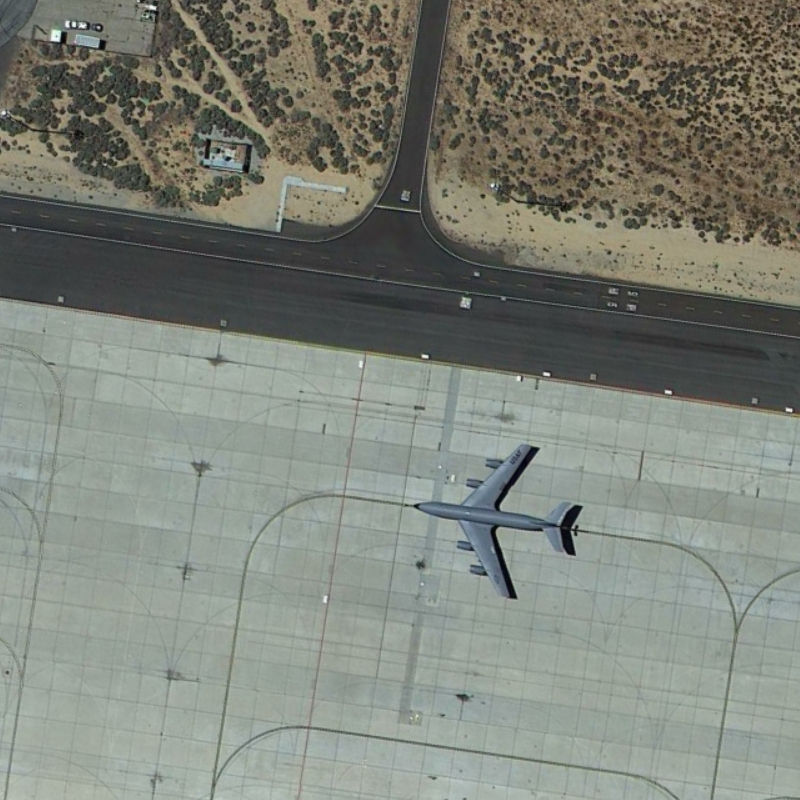A14: (401, 436, 589, 604)
